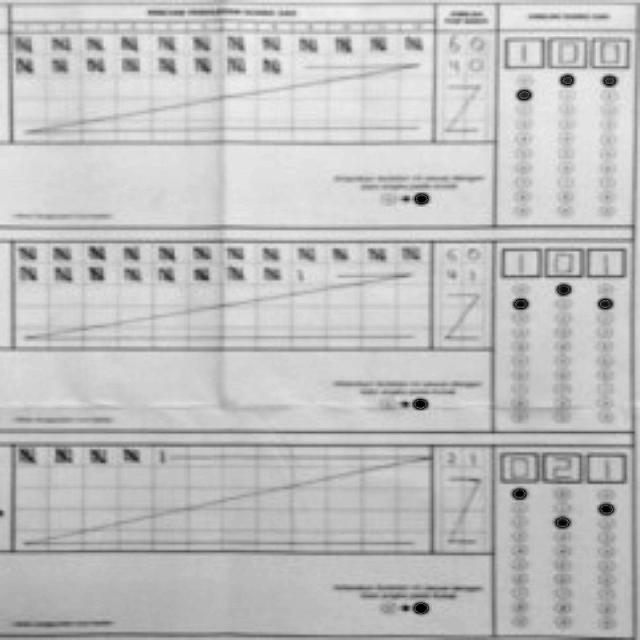Suara: (496, 449, 630, 485), (494, 246, 628, 279), (502, 33, 628, 66)
